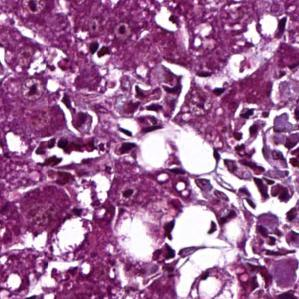ballooning: (134, 123, 220, 179)
